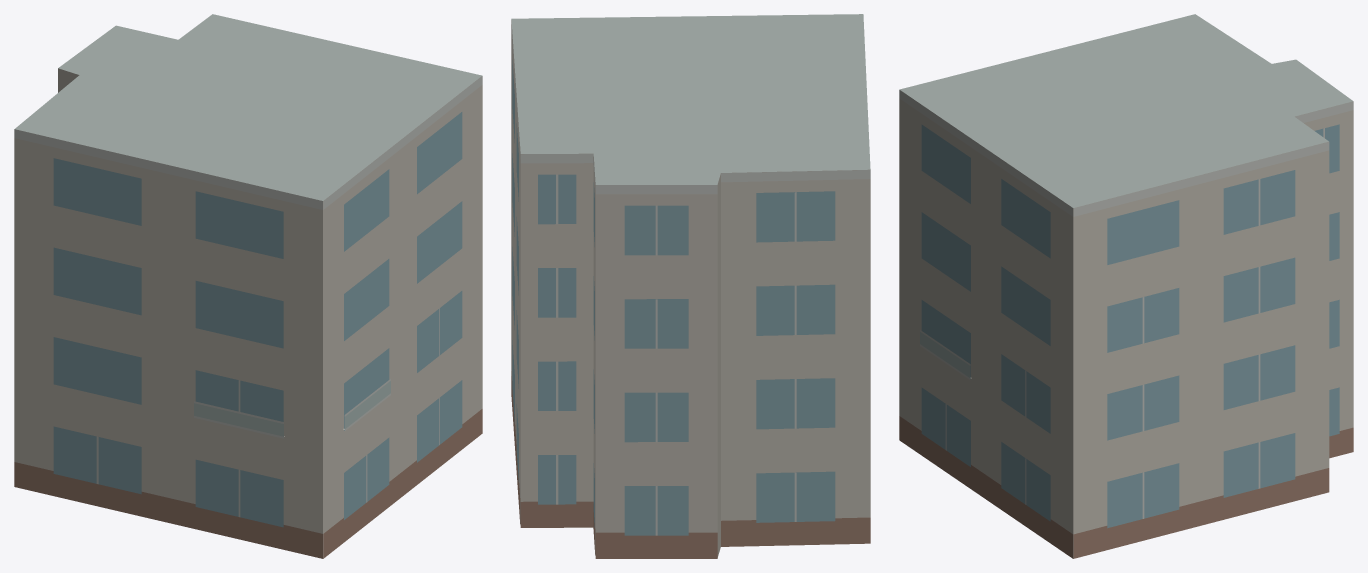
File: survey-upis-32618793.glb
3 renders of one model, left to right at view 1: azimuth 30°, elevation 25°; view 2: azimuth 150°, elevation 25°; view 3: azimuth 270°, elevation 25°, orthographic. The views are drawn at different scales.
Visible parts, largest first — view 1: survey-upis-32618793.tmp; view 2: survey-upis-32618793.tmp; view 3: survey-upis-32618793.tmp.
Boxes of the visible parts, x1,y1,x2,y2 form: survey-upis-32618793.tmp: [14, 14, 482, 558]; survey-upis-32618793.tmp: [511, 14, 870, 558]; survey-upis-32618793.tmp: [899, 14, 1353, 558].
Size of the model in its own units: 11.53 by 9.7 by 11.4.
